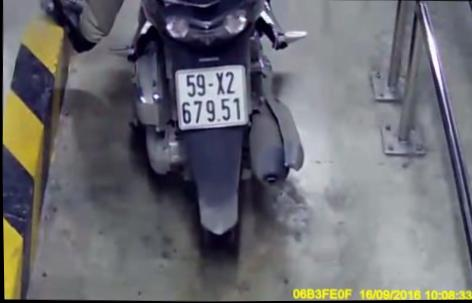LP: (172, 63, 250, 133)
